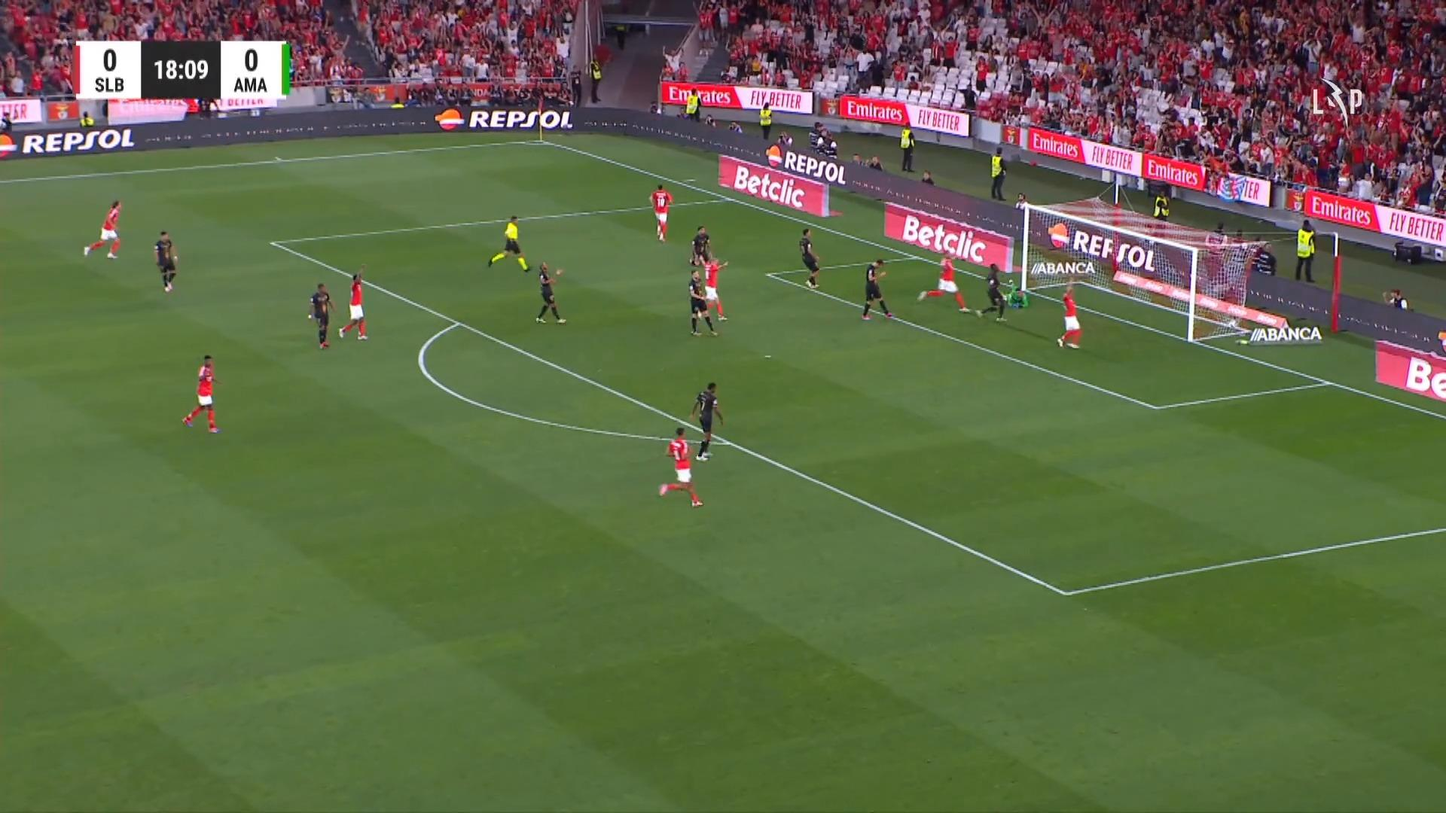ball: (1228, 318, 1237, 331)
goalkeeper: (1001, 280, 1031, 314)
player: (657, 426, 703, 507), (917, 252, 972, 313), (182, 354, 222, 434), (691, 382, 724, 461), (82, 199, 122, 259), (337, 269, 368, 340), (860, 257, 893, 320), (687, 269, 718, 336), (535, 260, 566, 324), (976, 262, 1008, 321), (701, 254, 729, 321), (307, 282, 334, 349), (153, 230, 178, 293), (1056, 287, 1081, 349), (648, 183, 673, 242), (798, 227, 821, 288), (689, 224, 711, 269)
referee: (487, 215, 532, 273)
